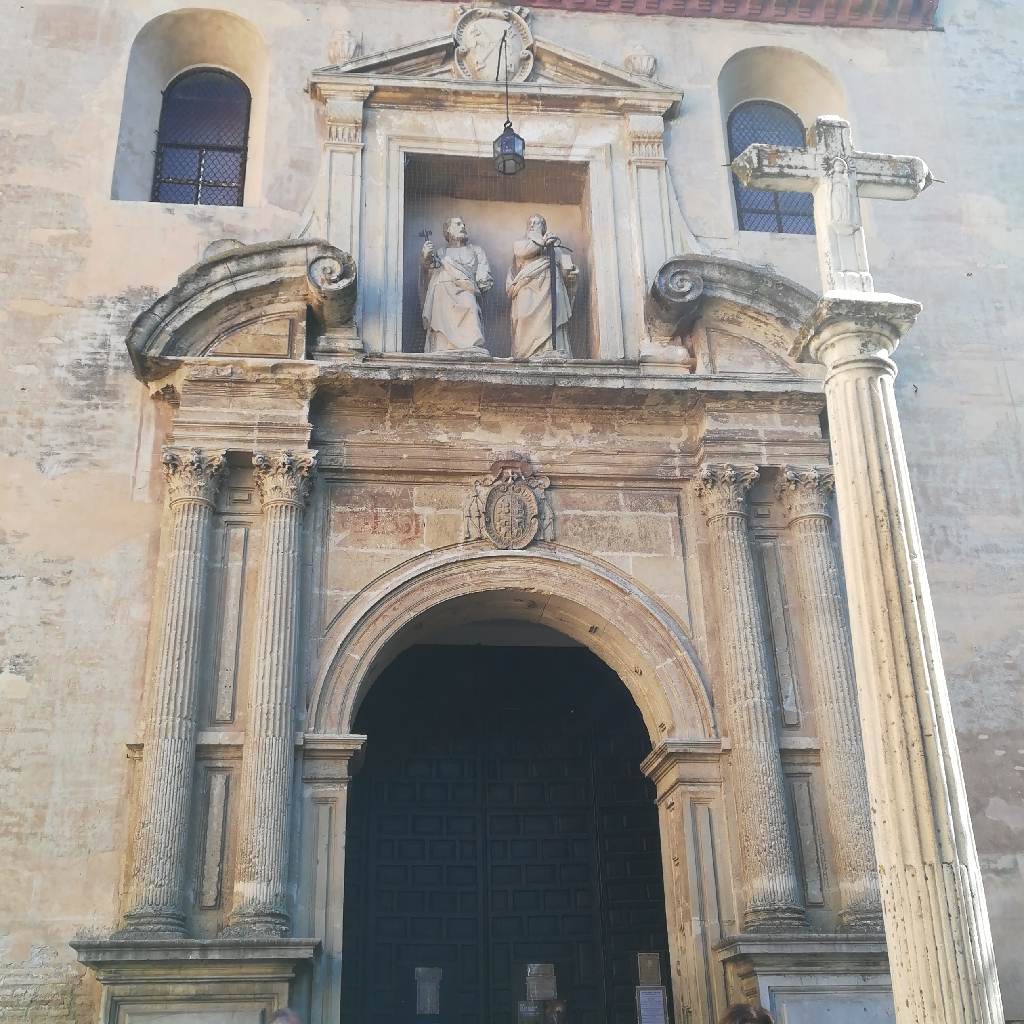arco-medio-punto: (331, 580, 700, 814)
fronton: (305, 28, 684, 111)
fronton-partido: (122, 234, 861, 405)
vano-adintelado: (370, 129, 621, 367)
